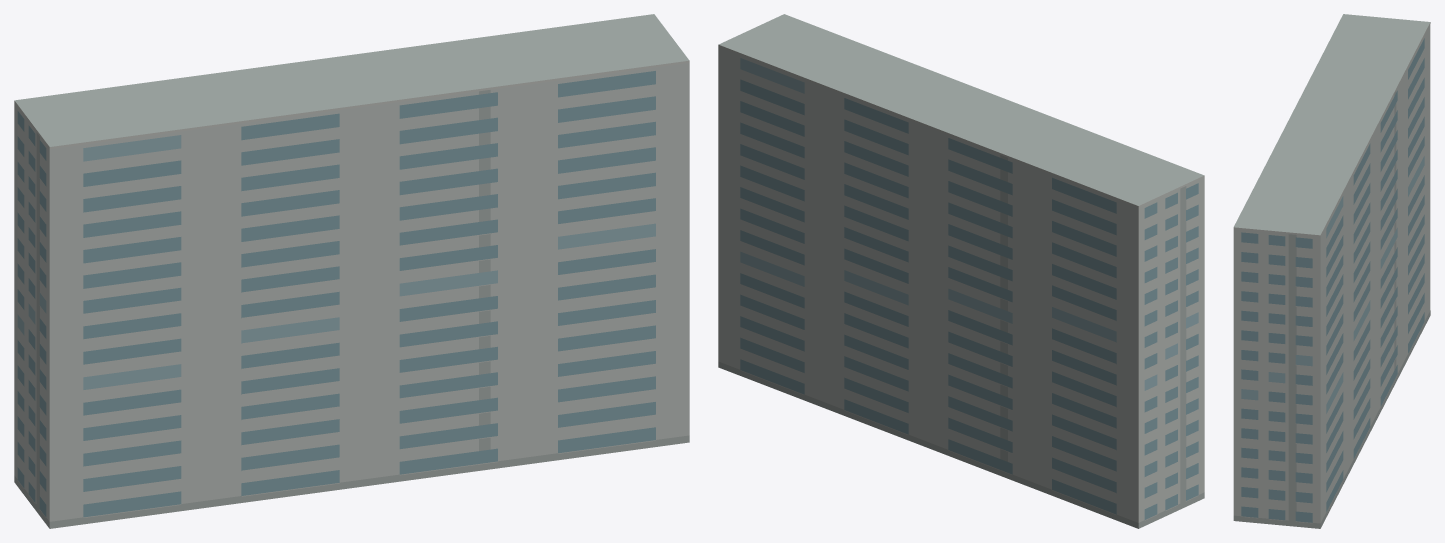
The model's file is residential-ea606717-15c3-4967-bfd6-370e8d793280.glb.
The picture shows the model from 3 angles, left to right: view 1: azimuth 30°, elevation 25°; view 2: azimuth 150°, elevation 25°; view 3: azimuth 270°, elevation 25°; orthographic projection. The views are drawn at different scales.
Parts seen in each view (by area): view 1: residential-ea606717-15c3-4967-bfd6-370e8d793280.tmp; view 2: residential-ea606717-15c3-4967-bfd6-370e8d793280.tmp; view 3: residential-ea606717-15c3-4967-bfd6-370e8d793280.tmp.
Part boxes in pixels (<box>): residential-ea606717-15c3-4967-bfd6-370e8d793280.tmp: <box>14,14,689,528</box>; residential-ea606717-15c3-4967-bfd6-370e8d793280.tmp: <box>718,14,1204,528</box>; residential-ea606717-15c3-4967-bfd6-370e8d793280.tmp: <box>1233,14,1430,528</box>.
Size of the model in its own units: 66.28 by 41 by 24.94.
